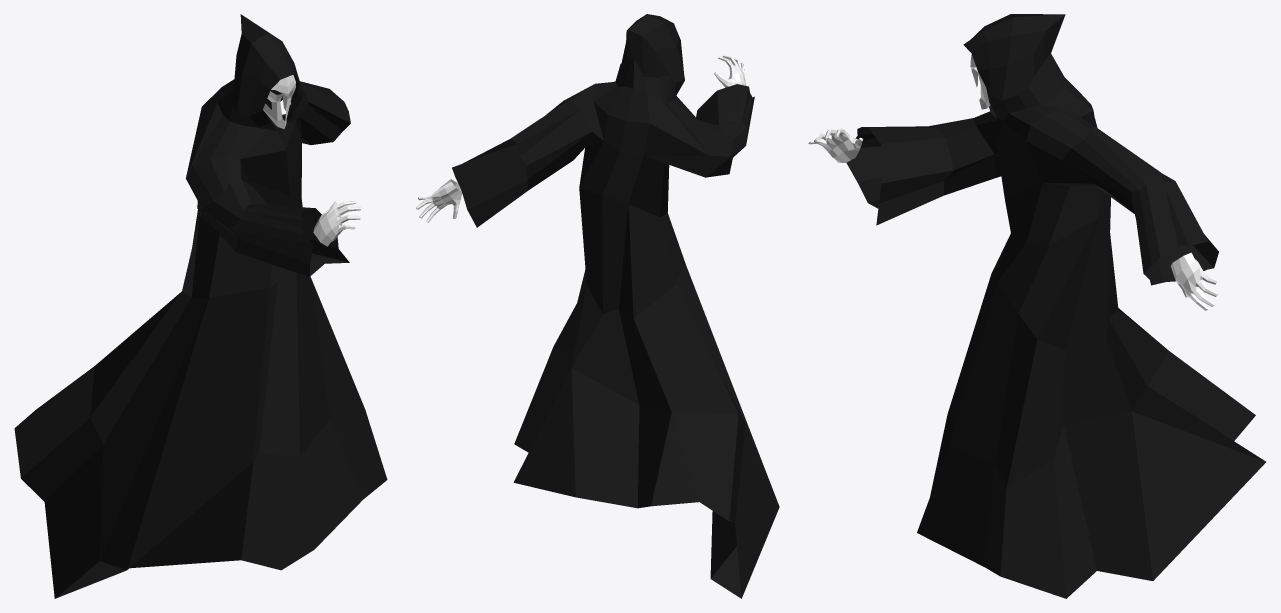
The model's file is ReaperAttack(44).obj.
3 renders of one model, left to right at view 1: azimuth 30°, elevation 25°; view 2: azimuth 150°, elevation 25°; view 3: azimuth 270°, elevation 25°, orthographic. The views are drawn at different scales.
Parts seen in each view (by area): view 1: Plane003; view 2: Plane003; view 3: Plane003.
Boxes of the visible parts, x1,y1,x2,y2 form: Plane003: (14,14,387,598); Plane003: (416,14,779,598); Plane003: (808,14,1265,598).
Size of the model in its own units: 141 by 234 by 161.
